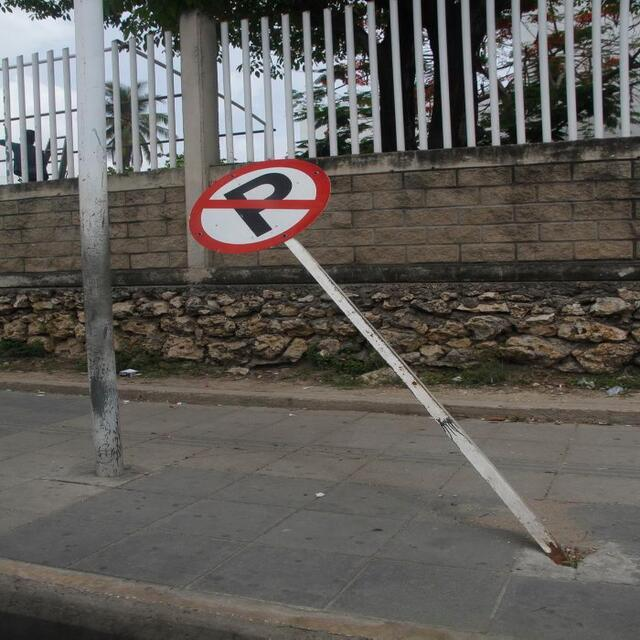Inclined Pole: (188, 144, 606, 575)
